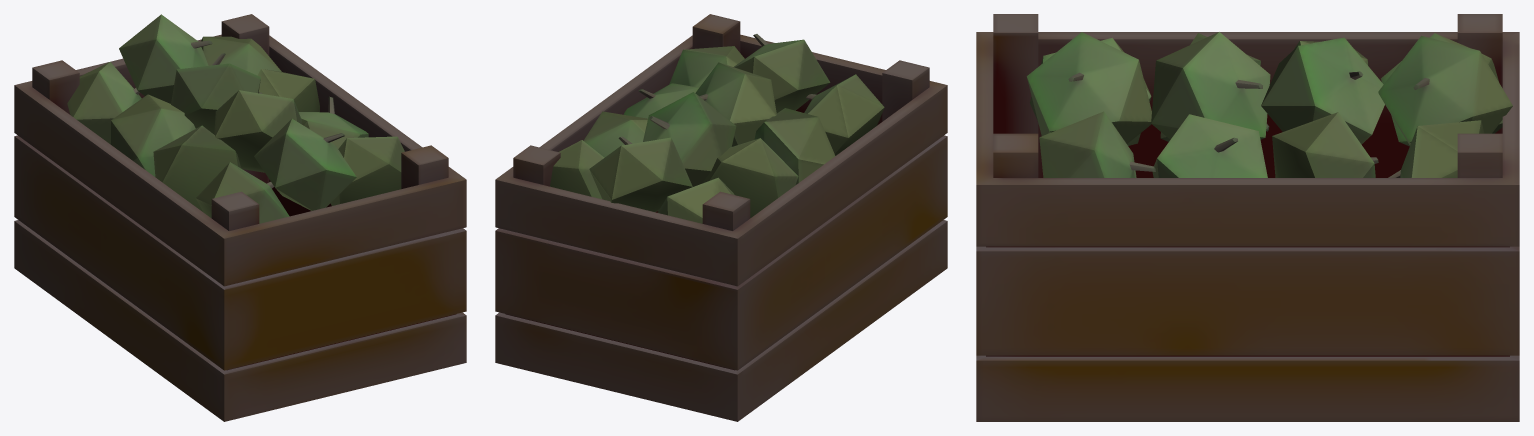
The model's file is meyva3.fbx.
3 renders of one model, left to right at view 1: azimuth 30°, elevation 25°; view 2: azimuth 150°, elevation 25°; view 3: azimuth 270°, elevation 25°, orthographic. The views are drawn at different scales.
Visible parts, largest first — view 1: Cube.050; view 2: Cube.050; view 3: Cube.050.
Boxes of the visible parts, box(x1,y1,x2,y2) form: Cube.050: box(14, 14, 466, 421); Cube.050: box(495, 14, 947, 421); Cube.050: box(976, 14, 1519, 421).
Size of the model in its own units: 32.07 by 29.9 by 48.11.
